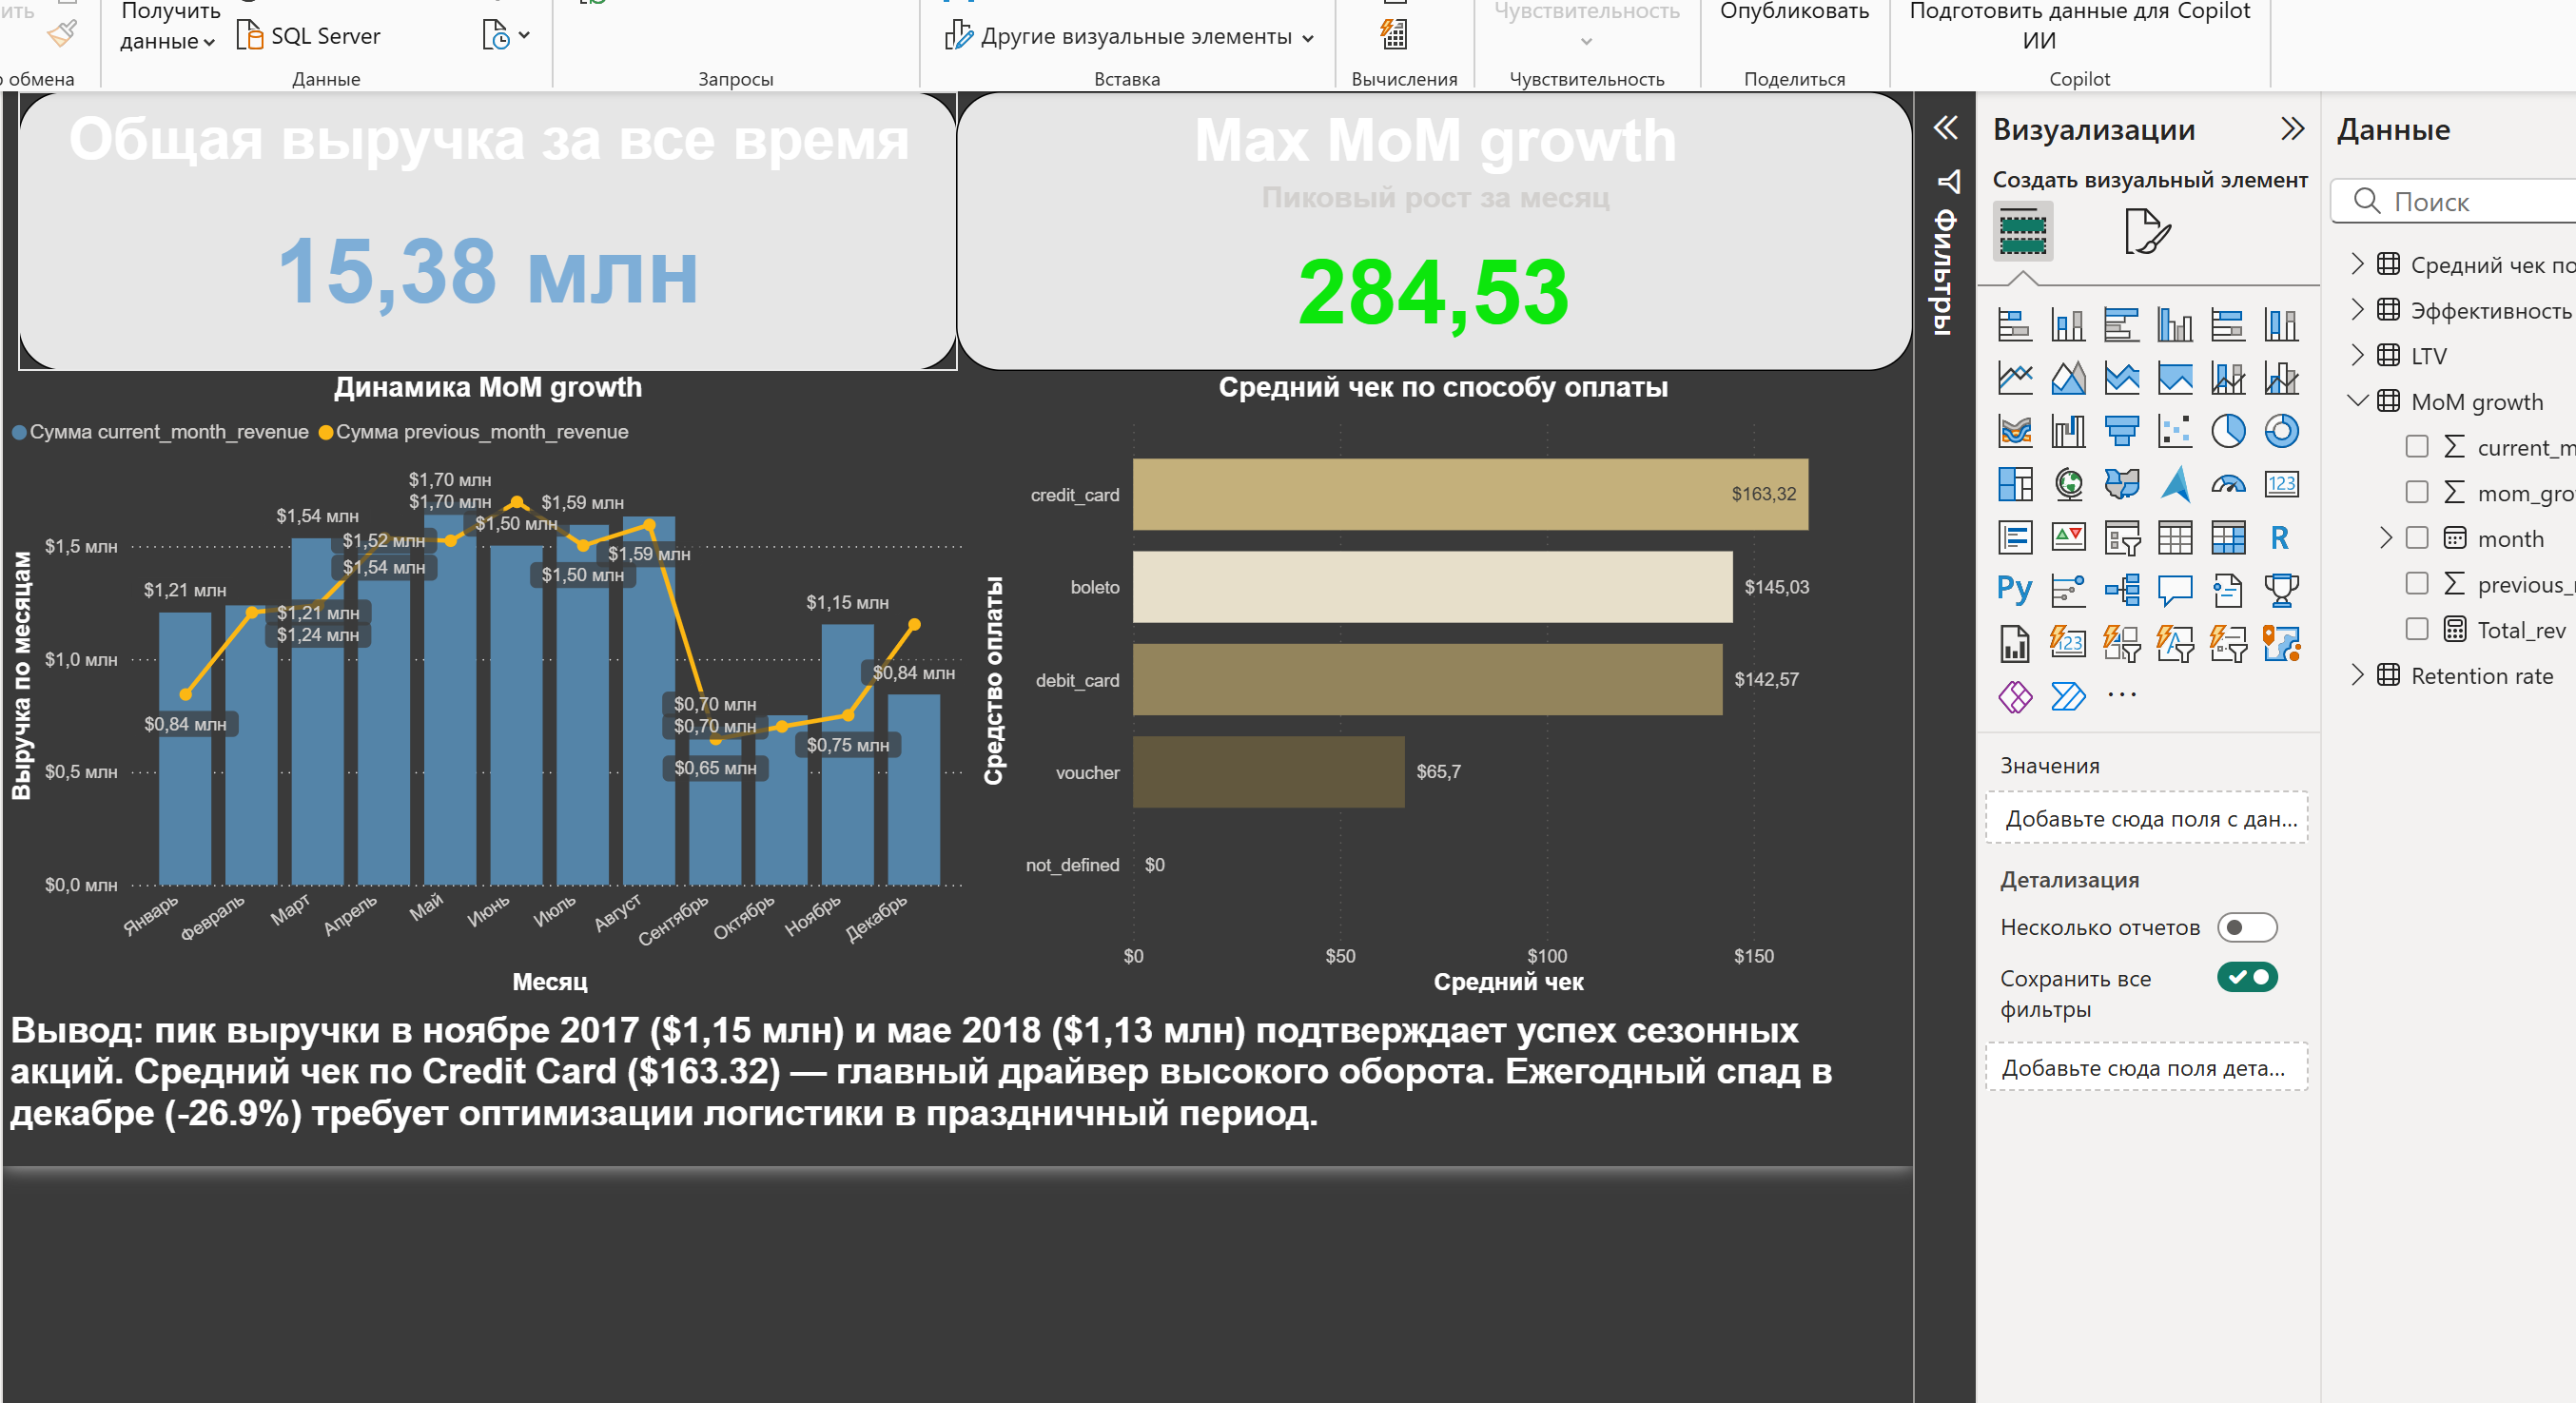

The page's visual inventory and layout, read from the dashboard file:
{"tool":"powerbi","page":{"name":"Анализ выручки","canvas":[1280,720],"ordinal":0},"visuals":[{"type":"card","title":"Общая выручка за все время","fields":{"Values":["MoM growth.Total_revenue"]},"box":[10.2,0,629.8,187.4],"z":0},{"type":"card","title":"Max MoM growth","fields":{"Values":["Sum(MoM growth.mom_growth_pct)"]},"box":[638.7,0,641.3,187.4],"z":1000},{"type":"lineClusteredColumnComboChart","title":"Динамика MoM growth","fields":{"Category":["MoM growth.month.Изменение.Иерархия дат.Месяц"],"Y":["Sum(MoM growth.current_month_revenue)"],"Y2":["Sum(MoM growth.mom_growth_pct)"]},"box":[0,187.4,651.5,423.3],"z":2000},{"type":"clusteredBarChart","title":"Средний чек по способу оплаты","fields":{"Category":["Средний чек по способу оплаты.payment_type"],"Y":["Sum(Средний чек по способу оплаты.avg_revenue)"]},"box":[651.5,187.4,628.5,423.3],"z":3000},{"type":"textbox","box":[0,610.7,1280,109.6],"z":4000}]}

Visuals, with their boxes on the page's 1280x720 design canvas (x1, y1, x2, y2). These are canvas units, not pixel positions in the 2576x1403 screenshot, which may show the page scaled, cropped or inside an application window:
"Общая выручка за все время" card: locate(10, 0, 640, 187)
"Max MoM growth" card: locate(639, 0, 1280, 187)
"Динамика MoM growth" lineClusteredColumnComboChart: locate(0, 187, 652, 611)
"Средний чек по способу оплаты" clusteredBarChart: locate(652, 187, 1280, 611)
textbox: locate(0, 611, 1280, 720)
